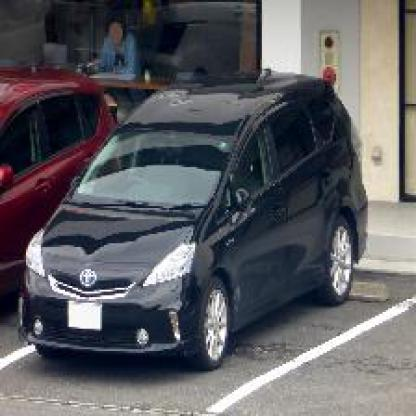not_emergency: (20, 65, 377, 371)
